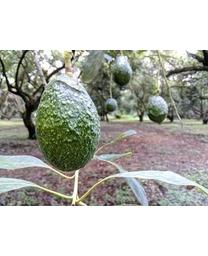avocado: (35, 75, 100, 172)
